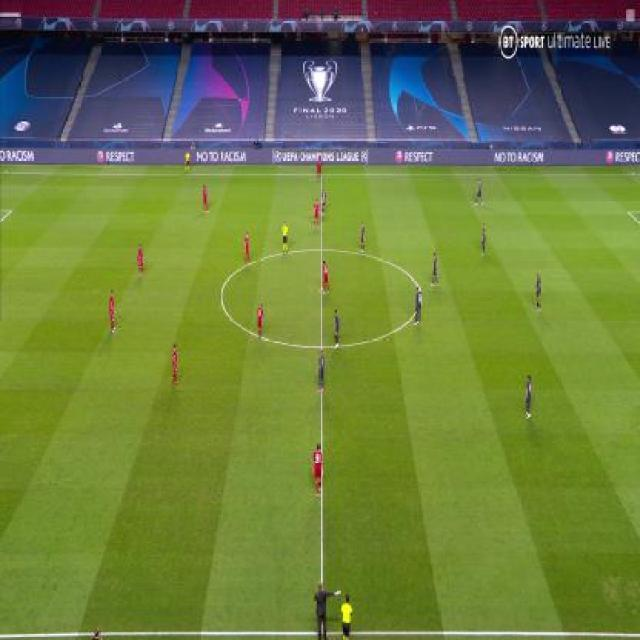player: (313, 578, 339, 640), (311, 443, 324, 499), (340, 594, 354, 639), (316, 351, 327, 396), (523, 374, 534, 419), (412, 283, 423, 326), (108, 289, 117, 335), (170, 343, 179, 386), (256, 302, 265, 342), (333, 308, 341, 350), (137, 242, 146, 278), (534, 272, 542, 312), (201, 183, 210, 216), (431, 252, 439, 289), (243, 230, 251, 267), (281, 220, 289, 257), (480, 221, 488, 257), (322, 258, 330, 294), (358, 220, 366, 254), (312, 197, 320, 230), (474, 178, 483, 207), (315, 152, 323, 183), (320, 188, 326, 219), (185, 149, 191, 175)
